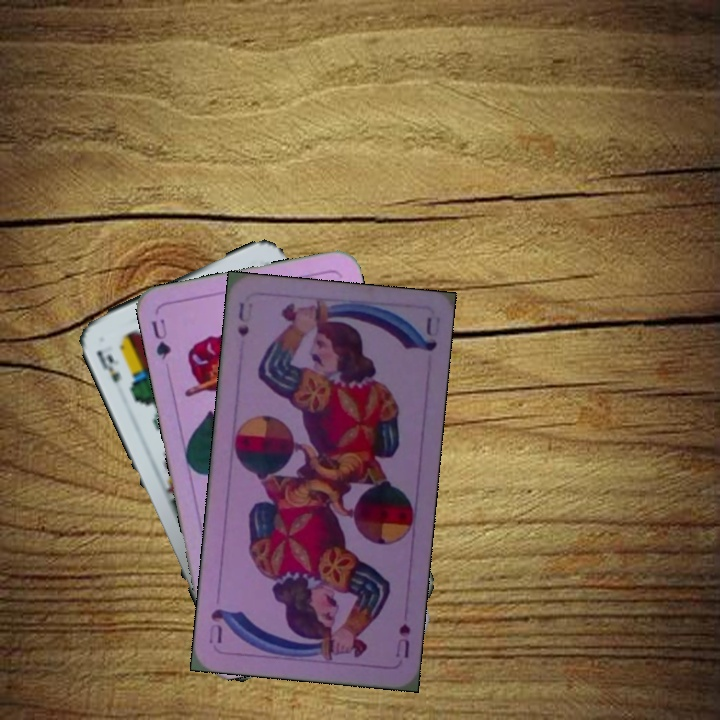EK: (92, 346, 124, 385)
GU: (147, 315, 174, 363)
SU: (391, 619, 413, 661), (233, 298, 252, 339)
